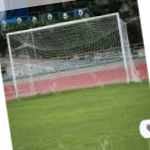goals: (7, 11, 140, 99)
